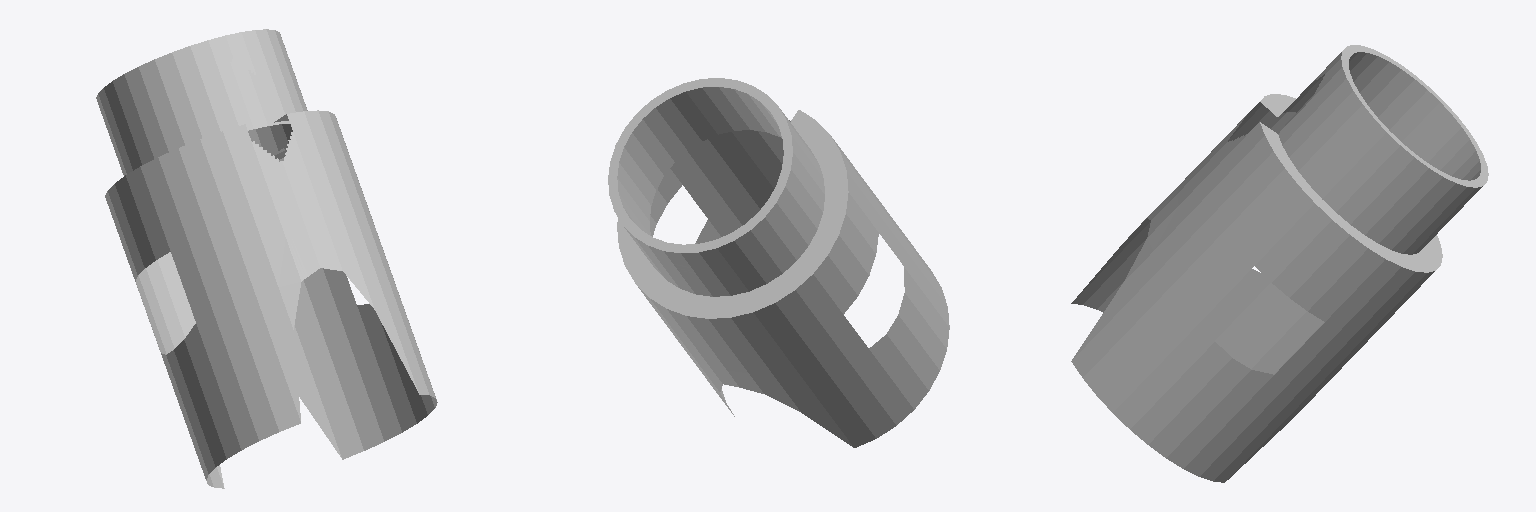
The model's file is HeadBody6.obj.
3 views of the same model, side by side, from view 1: azimuth 30°, elevation 25°; view 2: azimuth 150°, elevation 25°; view 3: azimuth 270°, elevation 25° (orthographic).
Parts seen in each view (by area): view 1: HeadUp_Cylinder.007; view 2: HeadUp_Cylinder.007; view 3: HeadUp_Cylinder.007.
Part boxes in pixels (x1,y1,x2,y2): HeadUp_Cylinder.007: (96, 29, 437, 488); HeadUp_Cylinder.007: (608, 78, 949, 447); HeadUp_Cylinder.007: (1071, 45, 1488, 482).
Size of the model in its own units: 0.25 by 0.4456 by 0.4255.